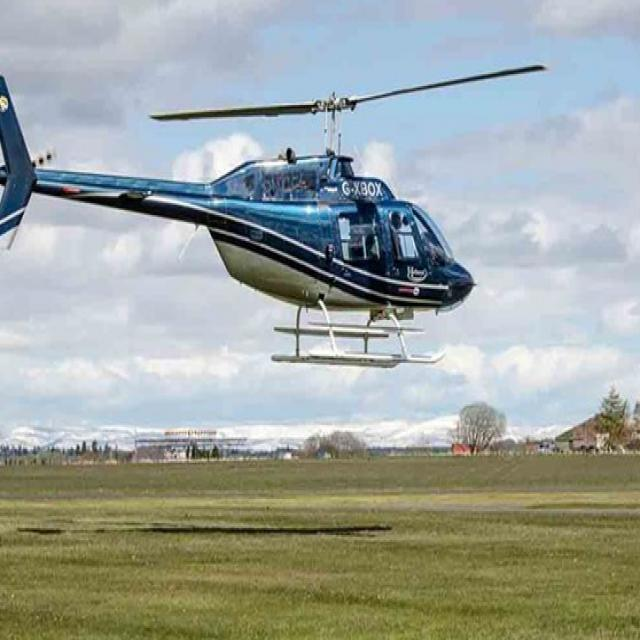helicopter: (1, 48, 552, 373)
